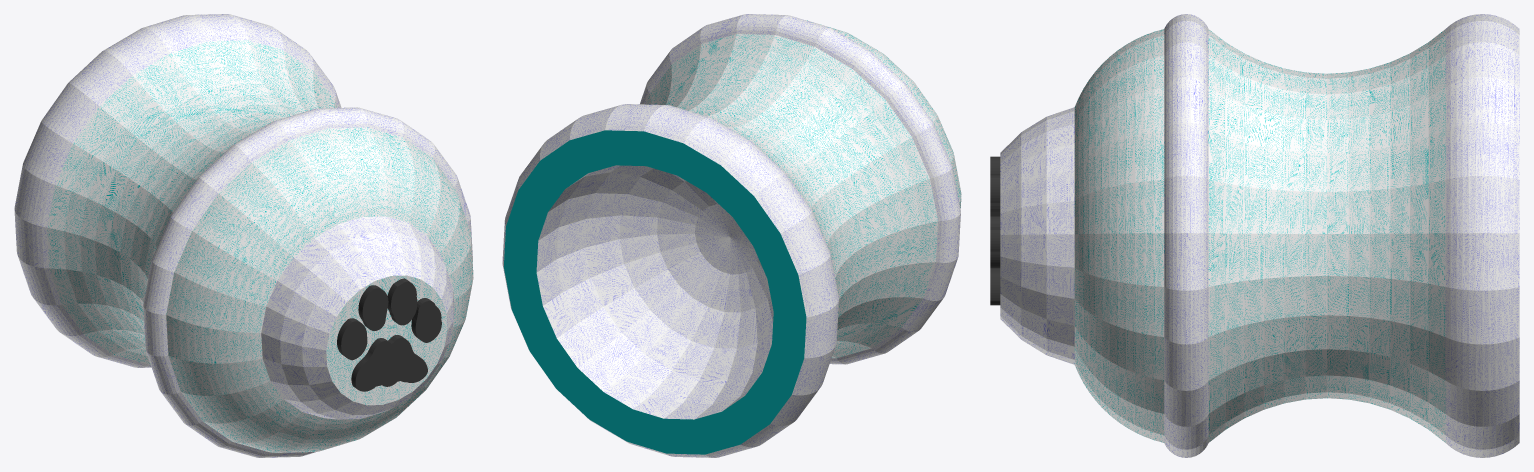
3 renders of one model, left to right at view 1: azimuth 30°, elevation 25°; view 2: azimuth 150°, elevation 25°; view 3: azimuth 270°, elevation 25°, orthographic. The views are drawn at different scales.
Visible parts, largest first — view 1: rubber dog toy; view 2: rubber dog toy; view 3: rubber dog toy.
Part boxes in pixels (x1,y1,x2,y2): rubber dog toy: [14, 14, 473, 457]; rubber dog toy: [502, 14, 961, 457]; rubber dog toy: [990, 14, 1519, 457].
Size of the model in its own units: 7.47 by 7.47 by 8.94.
